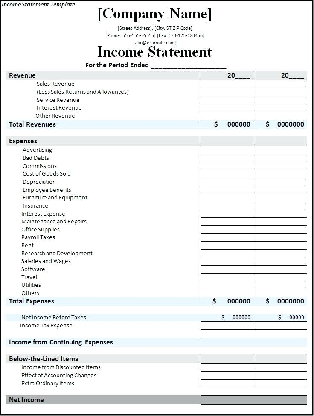textbox: (251, 361, 308, 373), (251, 176, 307, 188), (251, 231, 307, 243), (198, 361, 254, 373), (199, 78, 254, 90), (251, 78, 308, 89), (252, 86, 309, 97), (198, 94, 255, 105), (251, 94, 308, 105), (251, 102, 308, 113), (197, 102, 254, 113), (197, 110, 254, 121), (251, 136, 308, 147), (198, 144, 255, 155), (251, 144, 308, 155), (251, 152, 308, 163), (251, 160, 308, 171), (251, 168, 308, 179), (250, 184, 307, 195), (251, 192, 308, 203), (251, 200, 308, 211), (251, 208, 308, 219), (251, 216, 308, 227), (251, 223, 308, 234), (251, 247, 308, 258), (251, 255, 308, 266), (251, 264, 308, 275), (251, 271, 308, 282), (251, 279, 308, 290), (251, 287, 308, 298), (198, 152, 255, 163), (197, 168, 254, 179), (197, 176, 254, 187), (198, 192, 255, 203), (198, 200, 255, 211), (198, 208, 255, 219), (198, 216, 255, 227), (198, 223, 255, 234), (198, 240, 255, 251), (198, 287, 255, 298), (197, 320, 254, 331), (251, 320, 308, 331), (251, 353, 308, 364), (198, 370, 255, 381), (198, 378, 255, 389), (251, 377, 308, 388), (251, 370, 308, 381), (198, 87, 254, 98), (251, 110, 307, 121), (198, 136, 254, 147), (251, 240, 307, 251), (198, 160, 254, 171), (198, 184, 254, 195), (199, 232, 255, 243), (199, 248, 255, 259), (199, 255, 255, 266), (199, 263, 255, 274), (199, 272, 255, 283), (199, 280, 255, 291), (199, 353, 255, 364)
textline: (199, 333, 308, 341), (198, 398, 308, 405), (150, 60, 228, 69), (234, 69, 251, 80), (287, 69, 305, 79)
